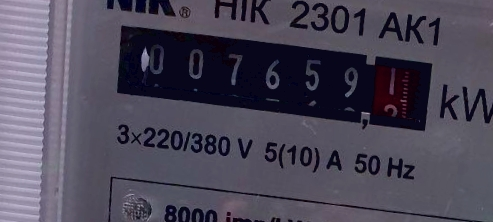0: (182, 43, 210, 83), (143, 38, 169, 79)
1: (381, 61, 402, 99)
5: (299, 54, 324, 94)
6: (259, 54, 286, 92)
7: (219, 48, 246, 88)
9: (337, 62, 363, 101)
screen: (101, 10, 445, 147)
